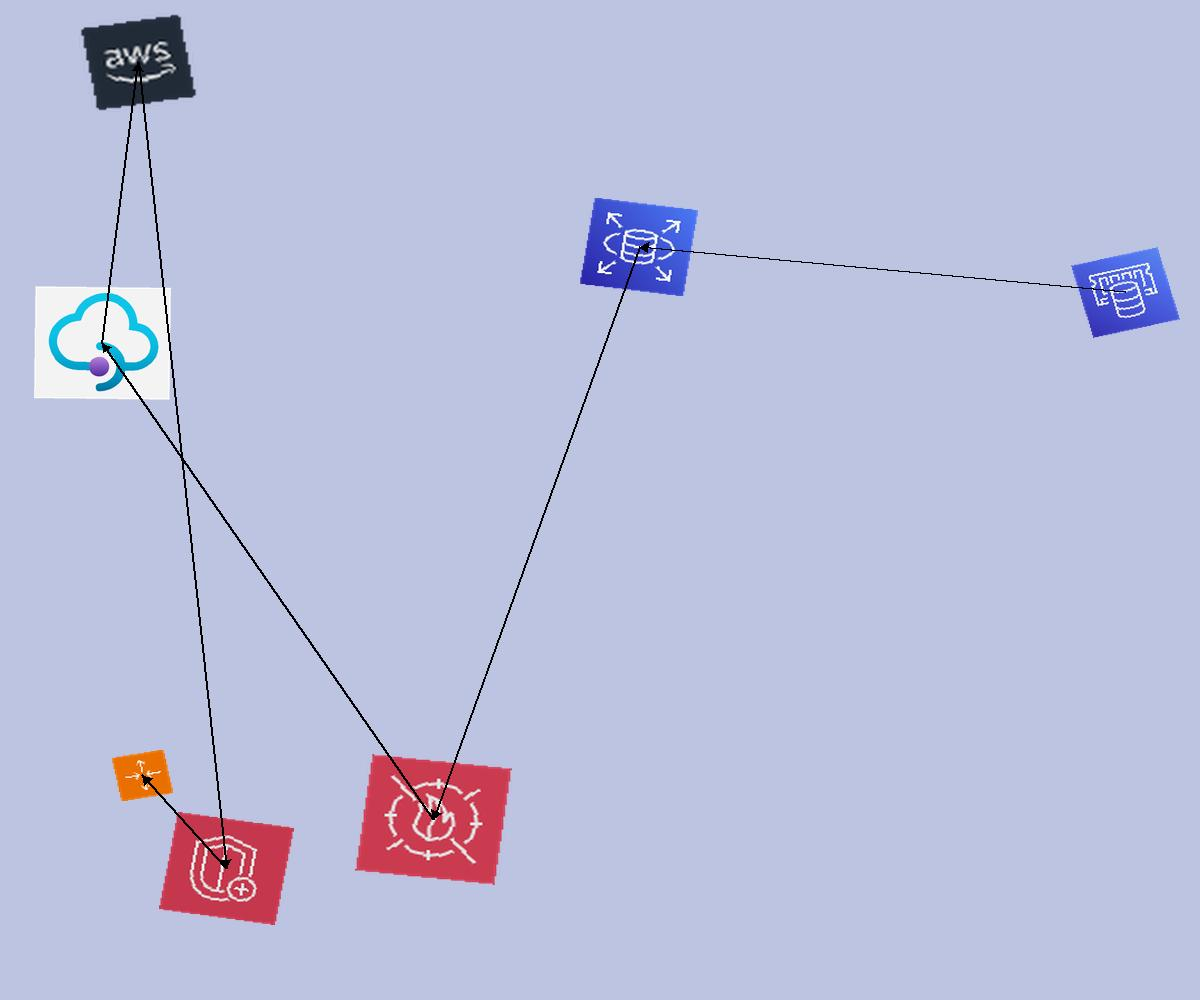AWS-Cloud-logo: (79, 13, 198, 112)
AWS-ElastiCache: (1071, 247, 1180, 338)
AWS-RDS: (579, 197, 699, 297)
AWS-Scaling-group: (111, 749, 174, 802)
AWS-Shield: (159, 812, 294, 925)
AWS-WAF: (355, 754, 512, 885)
Azure_api_gateway: (34, 286, 171, 400)
